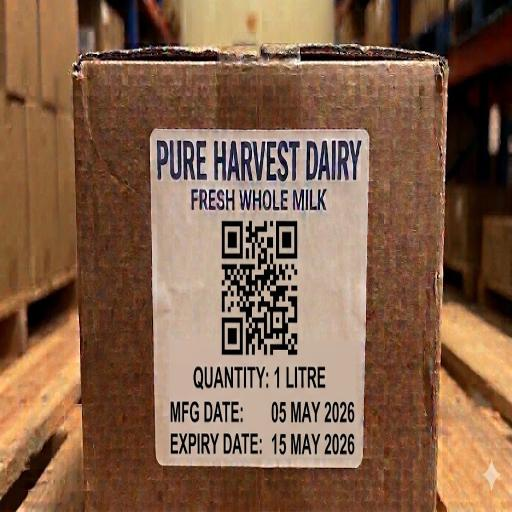expiry_daterotation: (168, 433, 359, 457)
labelrotation: (153, 134, 363, 461)
mfg_daterotation: (167, 396, 359, 432)
qr_coderotation: (214, 216, 310, 363)
quantityrotation: (188, 361, 333, 394)
